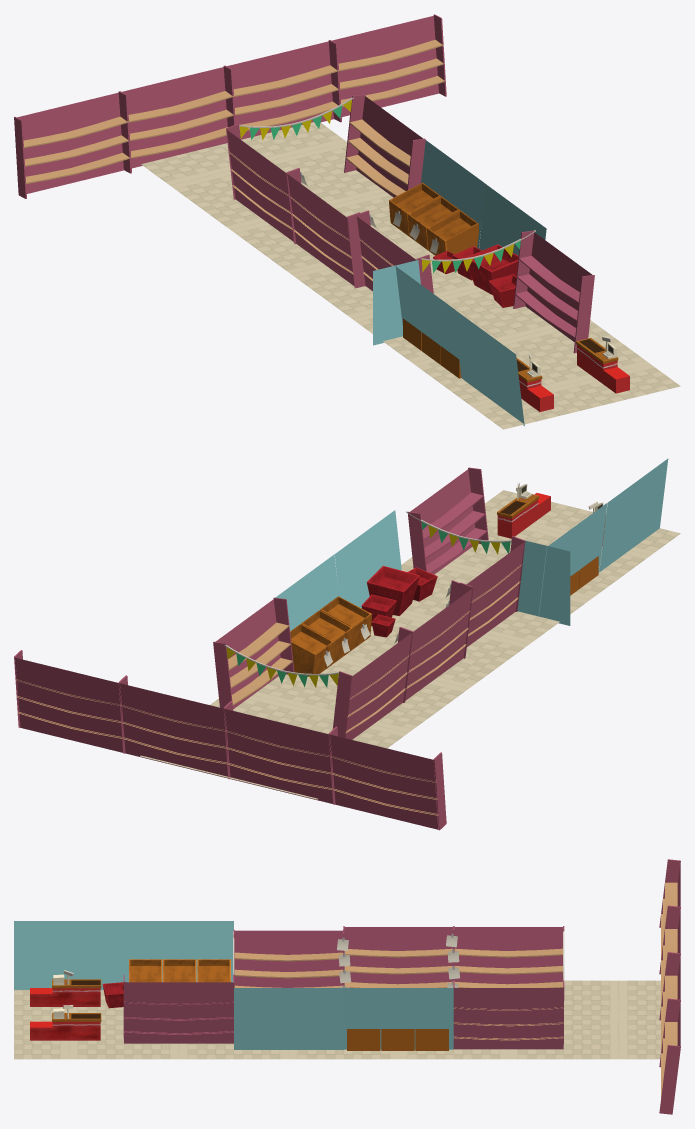
File: layout_v005.fbx
The picture shows the model from 3 angles, top to bottom: view 1: azimuth 30°, elevation 25°; view 2: azimuth 150°, elevation 25°; view 3: azimuth 270°, elevation 25°; orthographic projection. The views are drawn at different scales.
Parts seen in each view (by area): view 1: floor6, floor2, wall3_ncl1_7, wall3_ncl1_4, wall3_ncl1_6, wall3_ncl1_5, floor, floor5, wall_ncl1_1, wall3_ncl1_2, wall3_ncl1_3, floor3 (+39 smaller); view 2: wall3_ncl1_7, wall3_ncl1_6, wall3_ncl1_5, wall3_ncl1_4, floor5, wall_ncl1_1, floor3, floor2, wall3_ncl1_2, wall2, wall3_ncl1_3, wall4 (+26 smaller); view 3: floor6, wall3_ncl1_8, wall_ncl1_1, wall3, wall4, wall3_ncl1_1, wall3_ncl1_3, wall_ncl1_2, wall3_ncl1_2, wall, floor2, floor (+21 smaller).
Part boxes in pixels (bbox=[...]): floor6: bbox=[141, 122, 347, 207]; floor2: bbox=[443, 342, 680, 429]; wall3_ncl1_7: bbox=[17, 92, 123, 193]; wall3_ncl1_4: bbox=[122, 67, 227, 168]; wall3_ncl1_6: bbox=[332, 16, 438, 116]; wall3_ncl1_5: bbox=[227, 41, 333, 139]; floor: bbox=[383, 306, 619, 384]; floor5: bbox=[200, 170, 393, 251]; wall_ncl1_1: bbox=[455, 310, 524, 425]; wall3_ncl1_2: bbox=[287, 174, 354, 286]; wall3_ncl1_3: bbox=[226, 129, 293, 241]; floor3: bbox=[322, 269, 513, 333]; wall3_ncl1_7: bbox=[329, 734, 439, 829]; wall3_ncl1_6: bbox=[14, 657, 123, 752]; wall3_ncl1_5: bbox=[119, 683, 228, 778]; wall3_ncl1_4: bbox=[224, 709, 333, 803]; floor5: bbox=[210, 674, 437, 748]; wall_ncl1_1: bbox=[599, 458, 668, 572]; floor3: bbox=[370, 591, 559, 666]; floor2: bbox=[485, 490, 680, 577]; wall3_ncl1_2: bbox=[405, 588, 472, 700]; wall2: bbox=[517, 540, 570, 625]; wall3_ncl1_3: bbox=[345, 633, 411, 739]; wall4: bbox=[334, 510, 401, 608]; floor6: bbox=[563, 980, 660, 1059]; wall3_ncl1_8: bbox=[453, 988, 563, 1049]; wall_ncl1_1: bbox=[14, 921, 123, 989]; wall3: bbox=[124, 982, 233, 1043]; wall4: bbox=[234, 988, 343, 1049]; wall3_ncl1_1: bbox=[234, 930, 342, 987]; wall3_ncl1_3: bbox=[454, 927, 562, 984]; wall_ncl1_2: bbox=[344, 988, 453, 1049]; wall3_ncl1_2: bbox=[344, 927, 452, 984]; wall: bbox=[124, 921, 233, 982]; floor2: bbox=[14, 990, 123, 1059]; floor: bbox=[124, 1043, 233, 1059].
Bounding box in the file's own units: 40.07 × 6.96 × 60.66.
